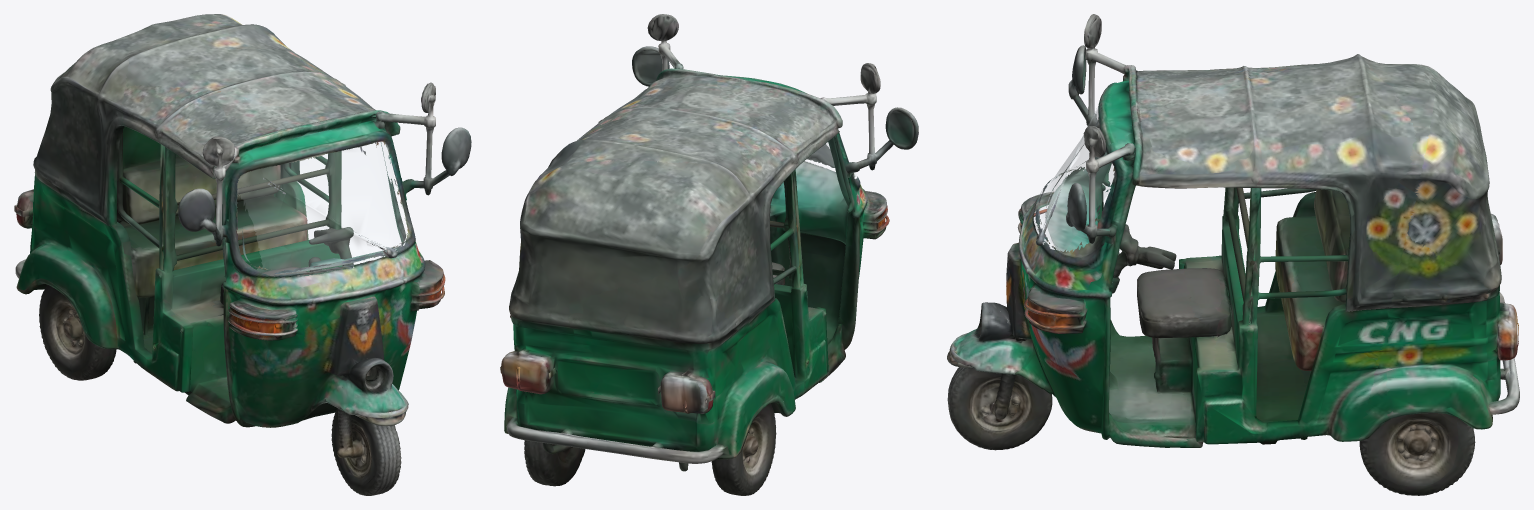
The model's file is bangladeshi_cng.glb.
3 renders of one model, left to right at view 1: azimuth 30°, elevation 25°; view 2: azimuth 150°, elevation 25°; view 3: azimuth 270°, elevation 25°, orthographic. The views are drawn at different scales.
Parts seen in each view (by area): view 1: CNG_Body, CNG_Windshield_Glass, Wheel_Rear_R, CNG_Front_Steer, Wheel_Front, CNG_Handlebar; view 2: CNG_Body, Wheel_Rear_R, Wheel_Rear_L; view 3: CNG_Body, Wheel_Rear_L, Wheel_Front, CNG_Front_Steer, CNG_Windshield_Glass, CNG_Handlebar.
Part boxes in pixels (x1,y1,x2,y2): CNG_Body: [14, 14, 471, 427]; CNG_Windshield_Glass: [237, 142, 406, 275]; Wheel_Rear_R: [39, 285, 116, 380]; CNG_Front_Steer: [322, 355, 408, 458]; Wheel_Front: [331, 408, 401, 495]; CNG_Handlebar: [299, 227, 353, 276]; CNG_Body: [500, 14, 918, 471]; Wheel_Rear_R: [711, 401, 788, 495]; Wheel_Rear_L: [524, 440, 585, 486]; CNG_Body: [981, 14, 1519, 447]; Wheel_Rear_L: [1359, 413, 1475, 495]; Wheel_Front: [947, 367, 1052, 450]; CNG_Front_Steer: [947, 304, 1023, 419]; CNG_Windshield_Glass: [1034, 107, 1113, 251]; CNG_Handlebar: [1112, 224, 1176, 287].
Bounding box in the file's own units: 1.69 × 1.98 × 2.65.
Materials: 2 (1 with a texture image).
